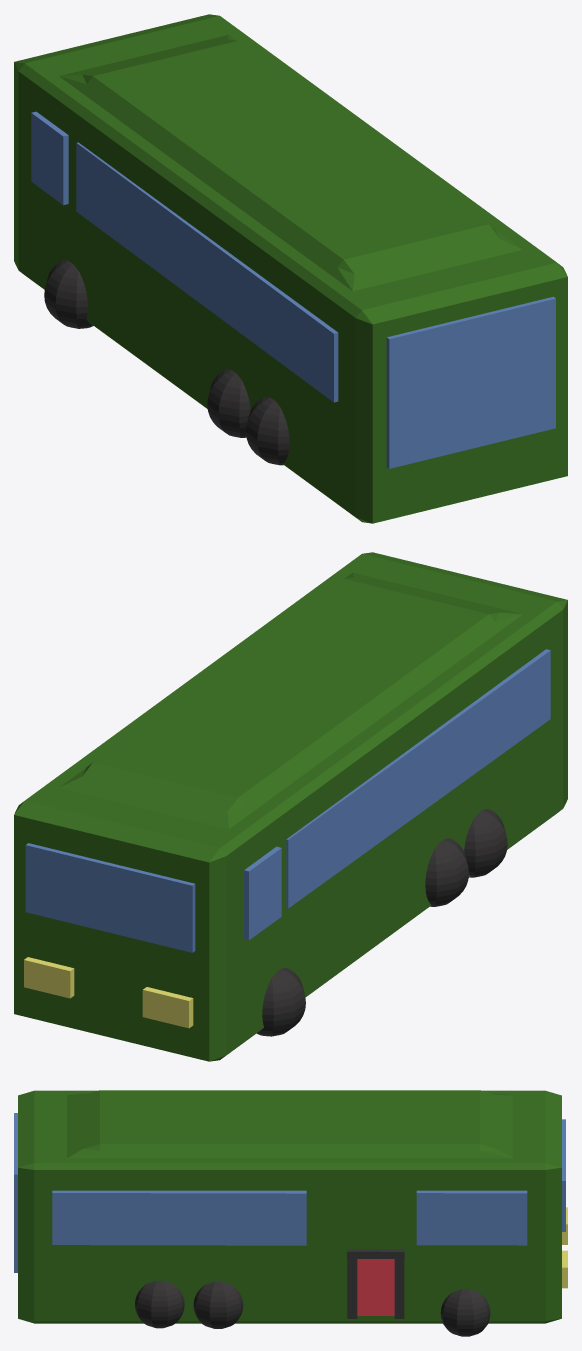
Rendered from car8.fbx.
3 renders of one model, top to bottom at view 1: azimuth 30°, elevation 25°; view 2: azimuth 150°, elevation 25°; view 3: azimuth 270°, elevation 25°, orthographic. The views are drawn at different scales.
Parts seen in each view (by area): view 1: Cube.009, Cube.003, Cube.018, Cube.012, Sphere.009, Sphere.011, Sphere.010; view 2: Cube.009, Cube.018, Cube.010, Cube.012, Sphere.009, Sphere.010, Sphere.011, Cube.002, Cube.001; view 3: Cube.009, Cube.013, Cube.011, Cube.017, Sphere.006, Sphere.007, Sphere.008, Cube.014, Cube.015, Cube.003, Cube.016, Cube.010.
Boxes of the visible parts, left/top/right/bottom form: Cube.009: left=14, top=14, right=567, bottom=523; Cube.003: left=386, top=296, right=555, bottom=468; Cube.018: left=76, top=142, right=338, bottom=402; Cube.012: left=31, top=111, right=68, bottom=205; Sphere.009: left=44, top=260, right=93, bottom=328; Sphere.011: left=246, top=396, right=289, bottom=465; Sphere.010: left=207, top=369, right=250, bottom=437; Cube.009: left=14, top=552, right=567, bottom=1061; Cube.018: left=286, top=649, right=550, bottom=908; Cube.010: left=25, top=843, right=195, bottom=952; Cube.012: left=244, top=846, right=281, bottom=939; Sphere.009: left=256, top=967, right=305, bottom=1036; Sphere.010: left=425, top=838, right=468, bottom=906; Sphere.011: left=464, top=809, right=507, bottom=877; Cube.002: left=142, top=987, right=193, bottom=1028; Cube.001: left=24, top=957, right=74, bottom=998; Cube.009: left=18, top=1090, right=561, bottom=1323; Cube.013: left=52, top=1190, right=306, bottom=1245; Cube.011: left=416, top=1190, right=527, bottom=1245; Cube.017: left=357, top=1259, right=394, bottom=1315; Sphere.006: left=440, top=1289, right=490, bottom=1336; Sphere.007: left=193, top=1281, right=243, bottom=1328; Sphere.008: left=135, top=1281, right=184, bottom=1328; Cube.014: left=347, top=1259, right=357, bottom=1318; Cube.015: left=394, top=1259, right=404, bottom=1318; Cube.003: left=14, top=1113, right=17, bottom=1272; Cube.016: left=347, top=1249, right=404, bottom=1258; Cube.010: left=562, top=1119, right=565, bottom=1231.
Size of the model in its own units: 242 by 224 by 616.
